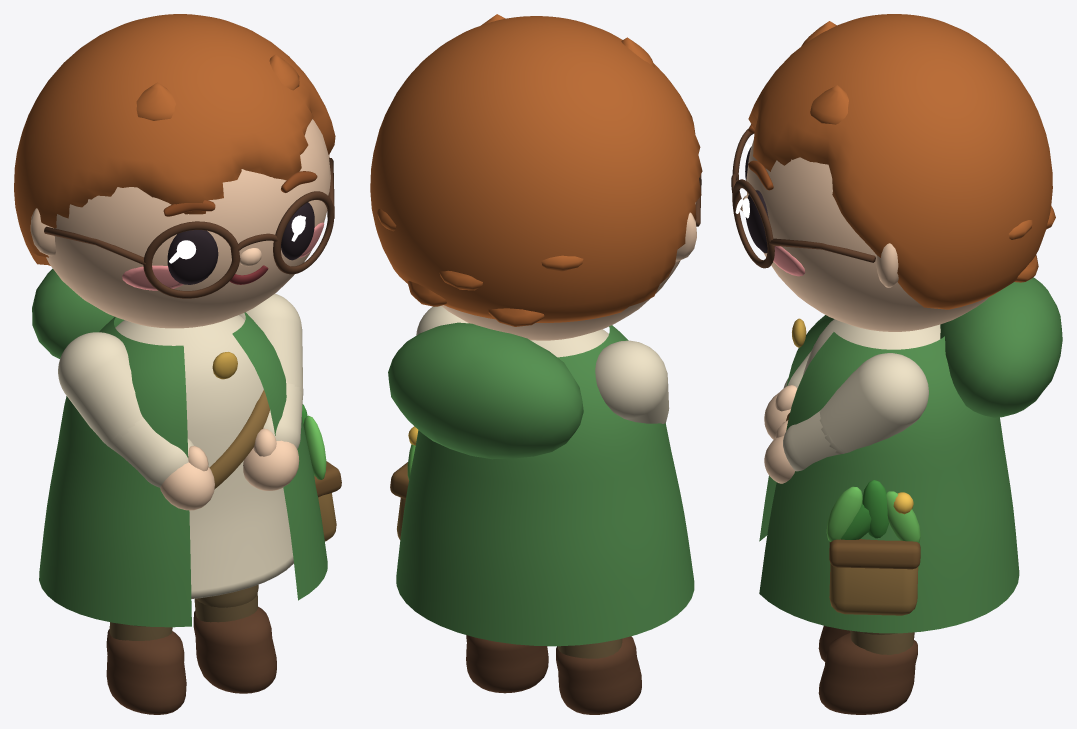
The model's file is npc_herbalist.glb.
The picture shows the model from 3 angles, left to right: view 1: azimuth 30°, elevation 25°; view 2: azimuth 150°, elevation 25°; view 3: azimuth 270°, elevation 25°; orthographic projection. The views are drawn at different scales.
Parts seen in each view (by area): view 1: head_body, spine_body, knee_L_body, uarm_R, knee_R_body, chest_body, head_eye_dot, uarm_L, farm_R, hand_L_body, hand_R_body, farm_L (+3 smaller); view 2: head_body, spine_body, chest_body, knee_R_body, uarm_R, knee_L_body, uarm_L; view 3: head_body, spine_body, chest_body, uarm_L, knee_L_body, farm_L, hand_L_body, hand_R_body, head_eye_dot, head_cheek_blush.
Boxes of the visible parts, bbox=[...] form: head_body: bbox=[14, 14, 335, 328]; spine_body: bbox=[39, 312, 341, 627]; knee_L_body: bbox=[193, 593, 276, 693]; uarm_R: bbox=[58, 332, 142, 449]; knee_R_body: bbox=[106, 622, 186, 714]; chest_body: bbox=[32, 268, 237, 379]; head_eye_dot: bbox=[167, 202, 314, 284]; uarm_L: bbox=[239, 293, 303, 395]; farm_R: bbox=[106, 417, 193, 487]; hand_L_body: bbox=[243, 428, 299, 490]; hand_R_body: bbox=[160, 446, 214, 510]; farm_L: bbox=[263, 382, 303, 449]; head_body: bbox=[370, 14, 702, 340]; spine_body: bbox=[390, 325, 694, 646]; chest_body: bbox=[388, 322, 583, 459]; knee_R_body: bbox=[556, 636, 641, 714]; uarm_R: bbox=[595, 340, 668, 423]; knee_L_body: bbox=[466, 635, 548, 693]; uarm_L: bbox=[416, 306, 468, 335]; head_body: bbox=[731, 14, 1055, 331]; spine_body: bbox=[759, 315, 1019, 633]; chest_body: bbox=[792, 277, 1062, 417]; uarm_L: bbox=[819, 353, 928, 454]; knee_L_body: bbox=[818, 630, 917, 714]; farm_L: bbox=[783, 410, 844, 471]; hand_L_body: bbox=[764, 420, 795, 483]; hand_R_body: bbox=[764, 385, 797, 439]; head_eye_dot: bbox=[742, 146, 768, 253]; head_cheek_blush: bbox=[773, 246, 805, 276].
Size of what is drawn, in the model's own units: 0.6675 by 1.39 by 0.6375.
